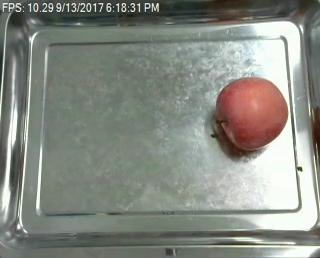apple: (216, 77, 289, 152)
